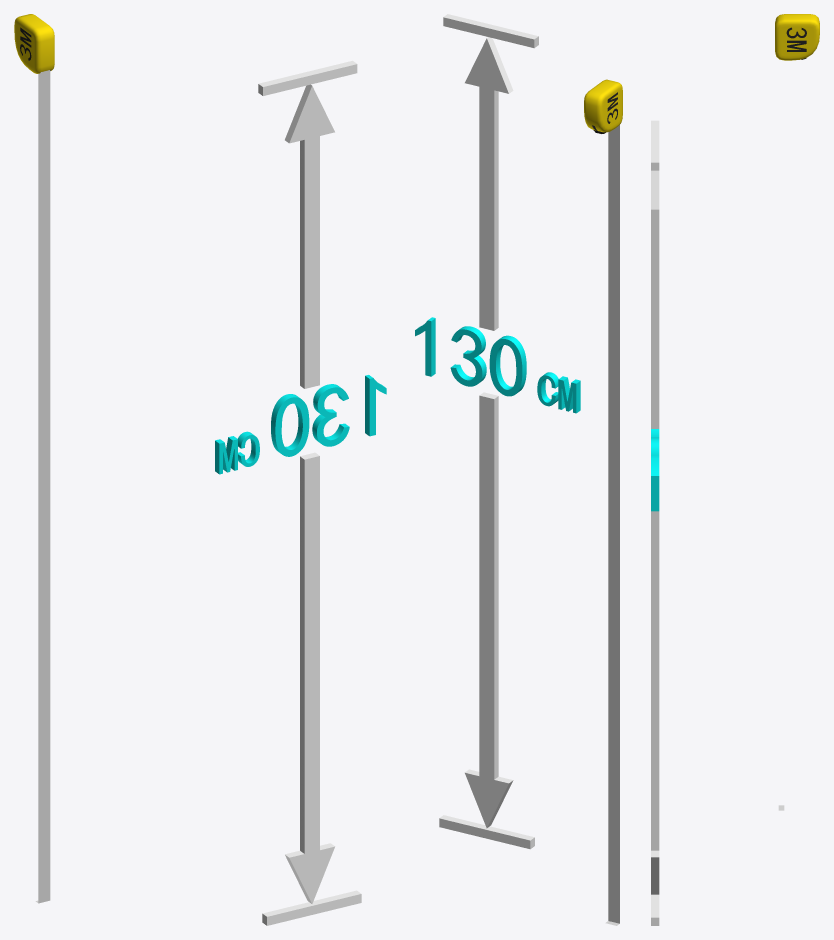
3 views of the same model, side by side, from view 1: azimuth 30°, elevation 25°; view 2: azimuth 150°, elevation 25°; view 3: azimuth 270°, elevation 25° (orthographic). The views are drawn at different scales.
Parts seen in each view (by area): view 1: 130cm, JC_01_C, JC_01_M; view 2: 130cm, JC_01_C, JC_01_M; view 3: 130cm, JC_01_M.
Part boxes in pixels (x1=…): 130cm: x1=215, y1=60, x2=386, y2=925; JC_01_C: x1=35, y1=70, x2=50, y2=903; JC_01_M: x1=14, y1=14, x2=54, y2=73; 130cm: x1=415, y1=14, x2=580, y2=849; JC_01_C: x1=605, y1=125, x2=619, y2=925; JC_01_M: x1=584, y1=79, x2=622, y2=133; 130cm: x1=651, y1=120, x2=659, y2=925; JC_01_M: x1=775, y1=14, x2=819, y2=60.
Size of what is drawn, in the model's own units: 17.98 by 54.03 by 10.34.
